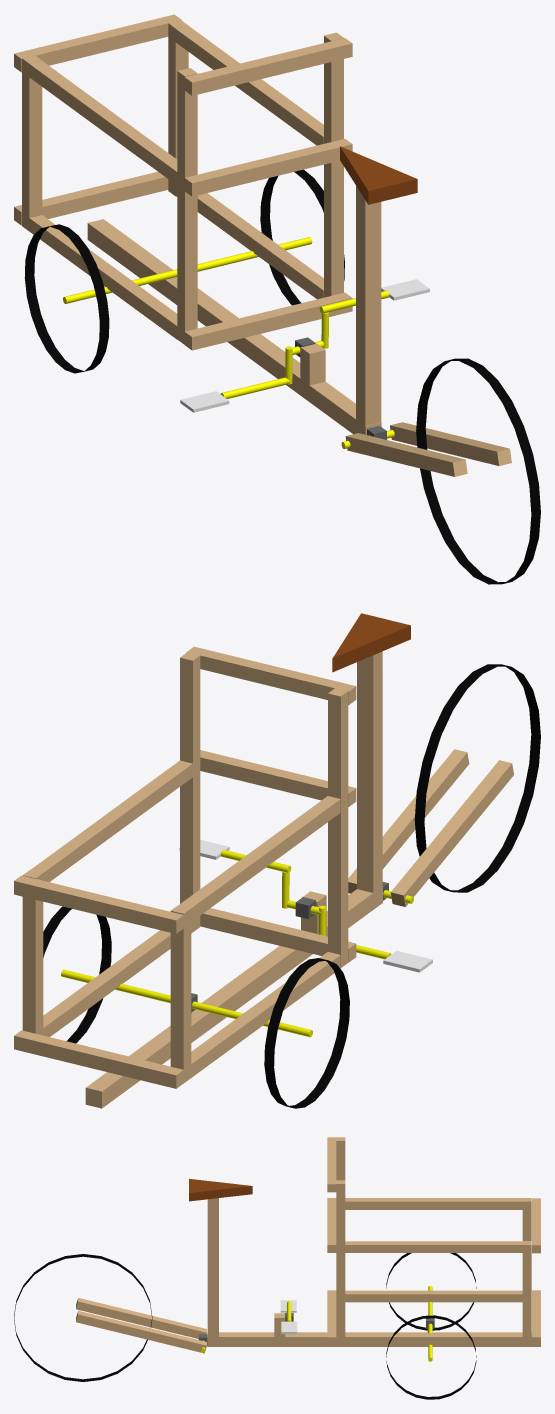
The model's file is tricycle_tadpole_freight.dae.
The picture shows the model from 3 angles, top to bottom: view 1: azimuth 30°, elevation 25°; view 2: azimuth 150°, elevation 25°; view 3: azimuth 270°, elevation 25°; orthographic projection. The views are drawn at different scales.
Parts seen in each view (by area): view 1: SketchUp (×6), gridbeam_500_vertical_12 (×6), gridbeam_500_vertical_10 (×4), gridbeam_50mm, gridbeam_500_vertical_9, gridbeam_40mm_horizontal_1.2m (×2), gridbeam_500_vertical, gridbeam_500_vertical_11, pedalling_axle_6; view 2: gridbeam_500_vertical_12 (×6), SketchUp (×5), gridbeam_500_vertical_10 (×4), gridbeam_40mm_horizontal_1.2m (×2), gridbeam_50mm, gridbeam_500_vertical_9, gridbeam_500_vertical, gridbeam_500_vertical_11, pedalling_axle_6, pedal_1; view 3: gridbeam_500_vertical_10 (×4), SketchUp (×5), gridbeam_500_vertical_12 (×6), gridbeam_40mm_horizontal_1.2m (×2), gridbeam_50mm, gridbeam_500_vertical, gridbeam_500_vertical_9, gridbeam_500_vertical_11.
Boxes of the visible parts, x1,y1,x2,y2 form: SketchUp (×6): [24, 146, 540, 584]; gridbeam_500_vertical_12 (×6): [14, 14, 352, 350]; gridbeam_500_vertical_10 (×4): [29, 26, 323, 339]; gridbeam_50mm: [87, 219, 381, 434]; gridbeam_500_vertical_9: [177, 68, 197, 344]; gridbeam_40mm_horizontal_1.2m (×2): [345, 422, 511, 476]; gridbeam_500_vertical: [324, 32, 343, 297]; gridbeam_500_vertical_11: [22, 55, 42, 230]; pedalling_axle_6: [64, 237, 312, 303]; gridbeam_500_vertical_12 (×6): [14, 646, 356, 1088]; SketchUp (×5): [43, 613, 540, 1108]; gridbeam_500_vertical_10 (×4): [31, 760, 340, 1077]; gridbeam_40mm_horizontal_1.2m (×2): [348, 749, 513, 906]; gridbeam_50mm: [85, 886, 382, 1108]; gridbeam_500_vertical_9: [328, 688, 348, 967]; gridbeam_500_vertical: [180, 652, 200, 931]; gridbeam_500_vertical_11: [170, 905, 191, 1083]; pedalling_axle_6: [61, 969, 311, 1037]; pedal_1: [383, 951, 432, 972]; gridbeam_500_vertical_10 (×4): [345, 1198, 522, 1345]; SketchUp (×5): [14, 1179, 476, 1399]; gridbeam_500_vertical_12 (×6): [327, 1137, 540, 1345]; gridbeam_40mm_horizontal_1.2m (×2): [76, 1298, 206, 1353]; gridbeam_50mm: [207, 1332, 540, 1346]; gridbeam_500_vertical: [336, 1180, 345, 1345]; gridbeam_500_vertical_9: [336, 1137, 345, 1180]; gridbeam_500_vertical_11: [522, 1198, 531, 1240].
Size of the model in its own units: 30.33 by 93.29 by 42.83.
